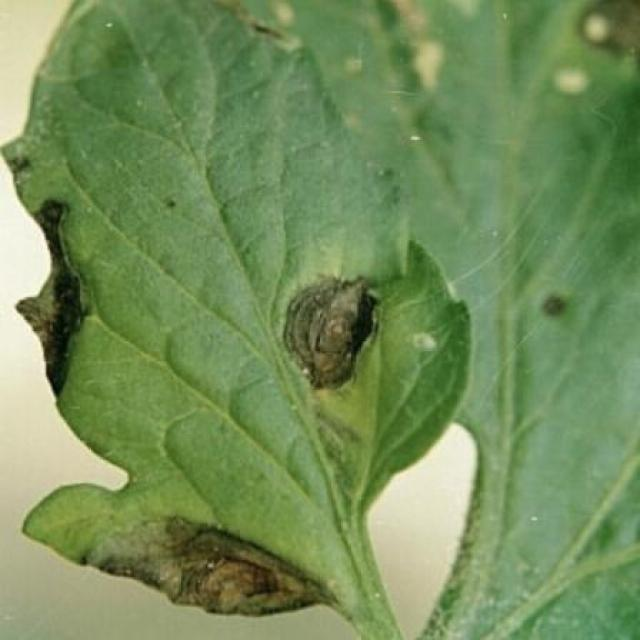Early Blight: (0, 0, 475, 621)
